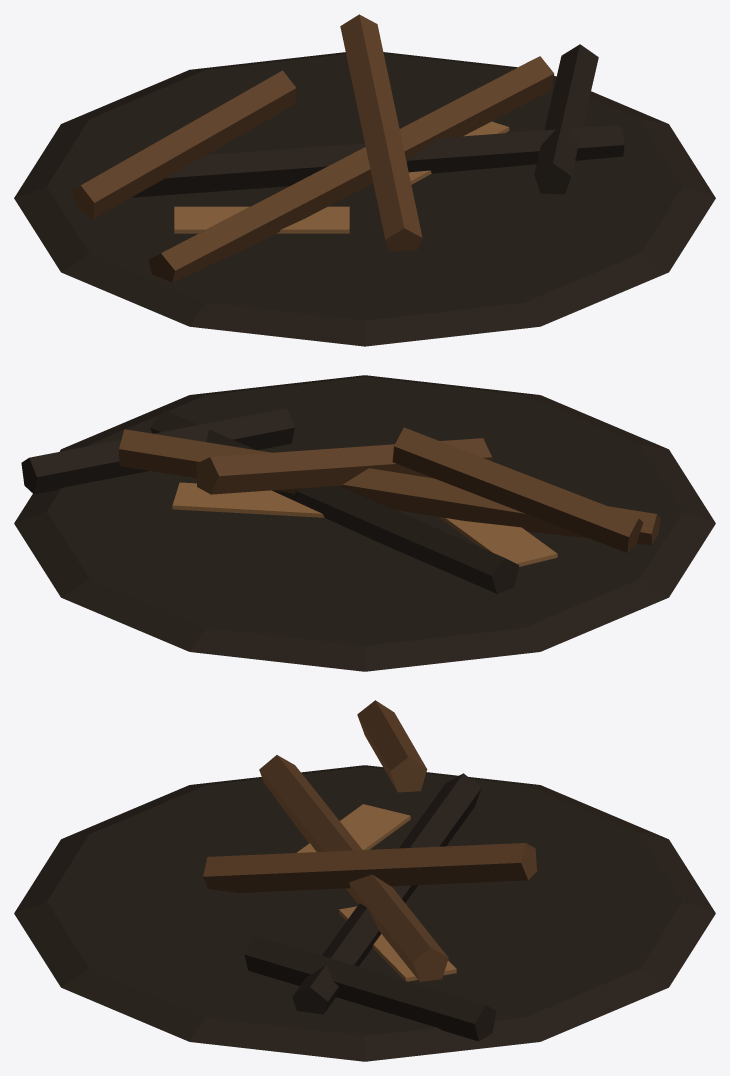
The model's file is siege_rubble_wood.glb.
The picture shows the model from 3 angles, top to bottom: view 1: azimuth 30°, elevation 25°; view 2: azimuth 150°, elevation 25°; view 3: azimuth 270°, elevation 25°; orthographic projection.
Visible parts, largest first — view 1: siege_rubble_wood; view 2: siege_rubble_wood; view 3: siege_rubble_wood.
Boxes of the visible parts, left/top/right/bottom form: siege_rubble_wood: left=14, top=14, right=715, bottom=346; siege_rubble_wood: left=14, top=375, right=715, bottom=671; siege_rubble_wood: left=14, top=700, right=715, bottom=1061.
Bounding box in the file's own units: 6.4 × 1.28 × 6.4.
